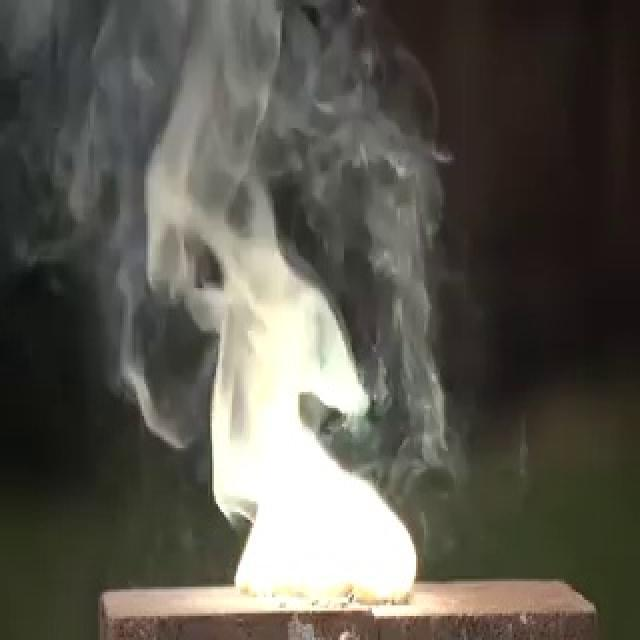fire: (217, 309, 423, 608)
